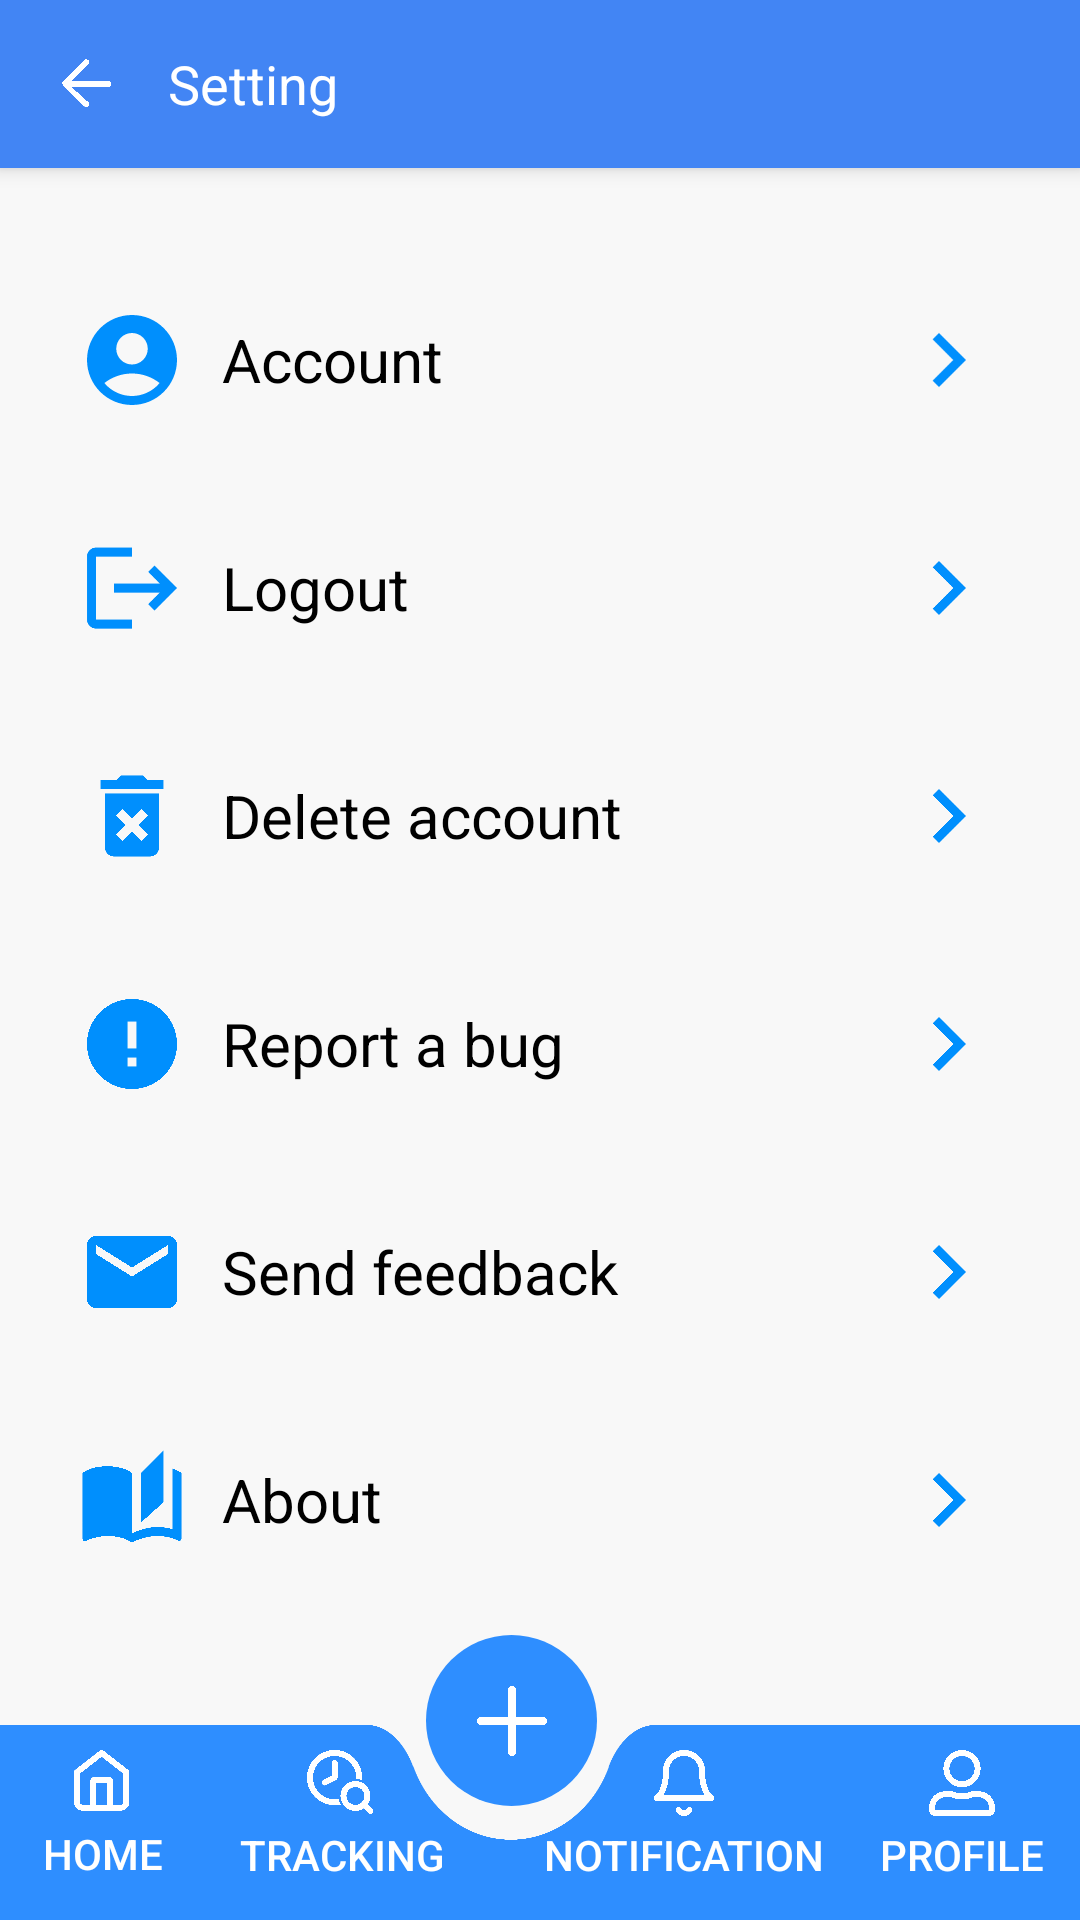

Where to tap for icons on this 1080×1920 app screen, as (x,y):
auto stories: (132,1496)
back: (86,83)
chevron right: (949,360), (949,588), (949,816), (949,1044), (949,1272), (949,1500)
delete forever: (132,816)
email: (132,1272)
error: (132,1044)
